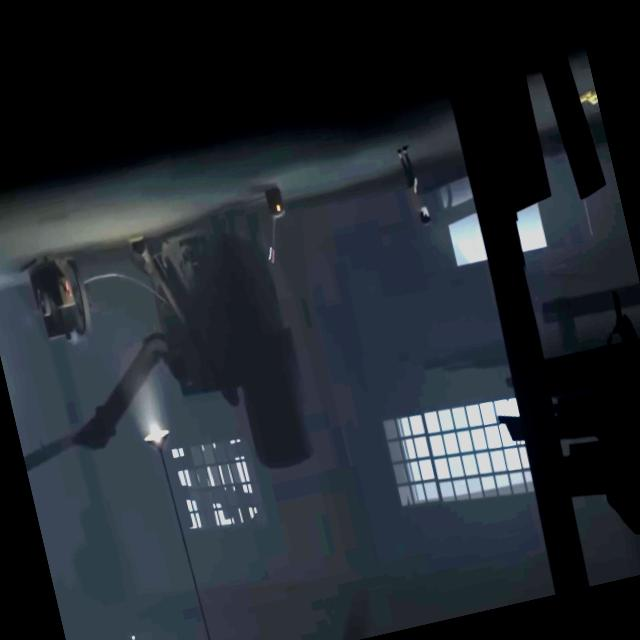boy: (392, 143, 432, 228)
